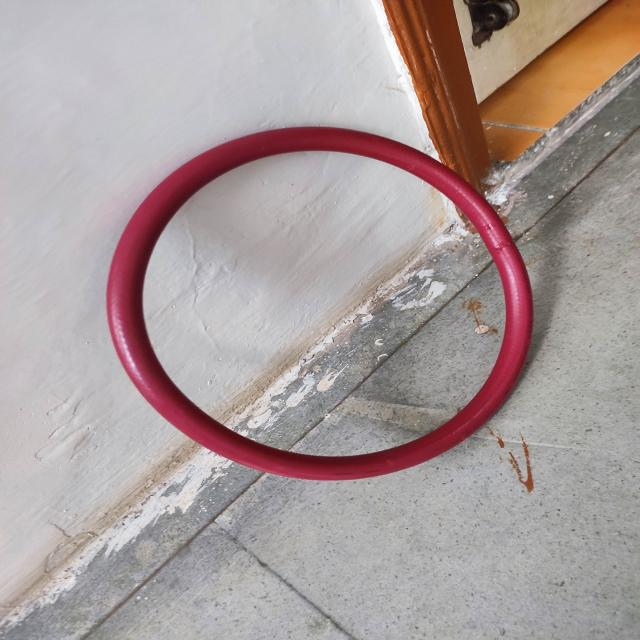daire: (106, 126, 531, 478)
